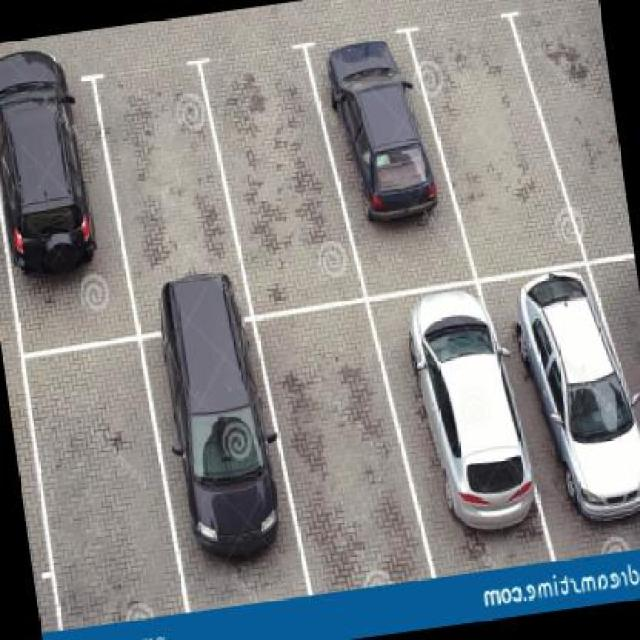Car: (149, 273, 272, 575), (522, 265, 640, 528), (407, 290, 524, 549), (1, 44, 95, 284), (326, 35, 427, 227)
Empty: (24, 350, 170, 623), (270, 315, 404, 586), (420, 23, 544, 266), (220, 54, 340, 300), (114, 71, 223, 280), (543, 4, 632, 240)
